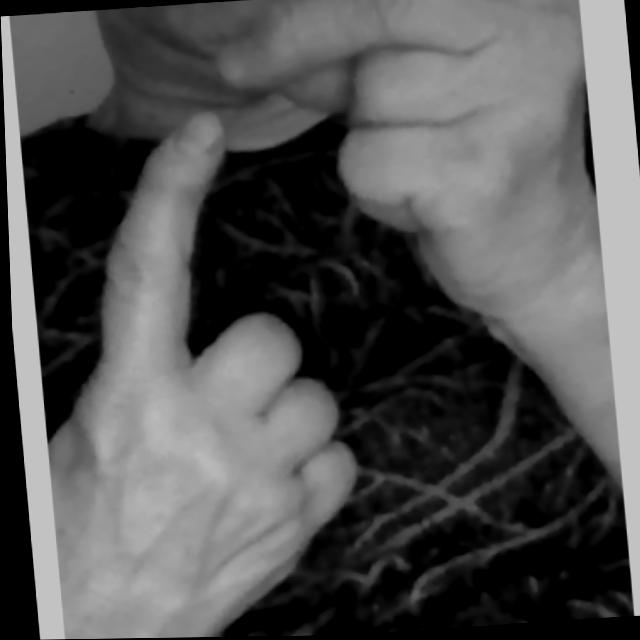I-: (10, 0, 635, 640)
